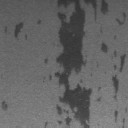red iron: (48, 0, 109, 128), (100, 43, 126, 94), (4, 22, 28, 39), (116, 12, 126, 26), (0, 101, 8, 110), (112, 34, 118, 40), (114, 110, 118, 117), (44, 121, 48, 128), (37, 20, 42, 25), (44, 58, 48, 64)
